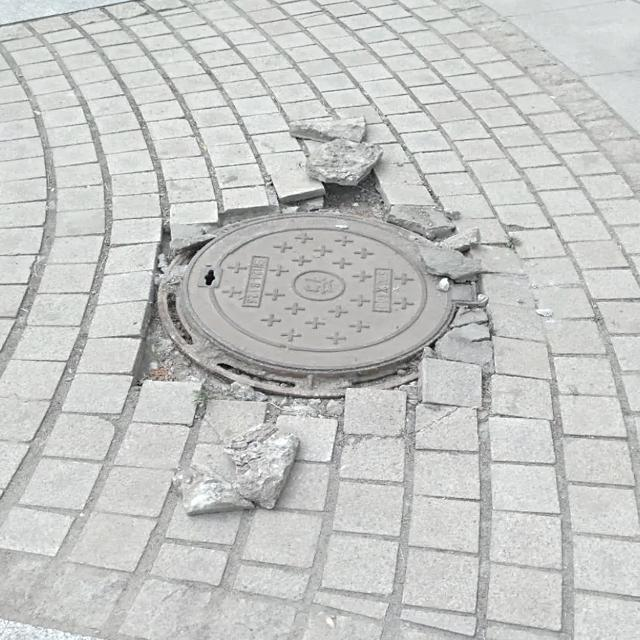circle: (100, 157, 538, 440)
